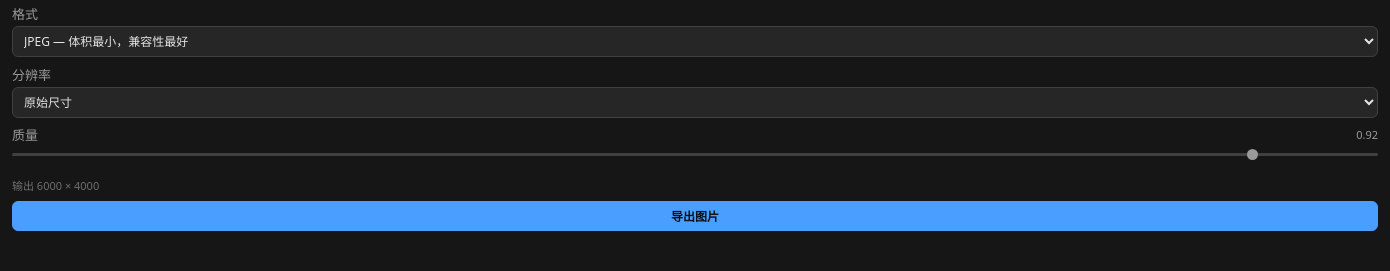
Test: ExportPanel › surfaces an export failure
Click the button "导出图片".
click(695, 216)  # box [12,201,1378,231]
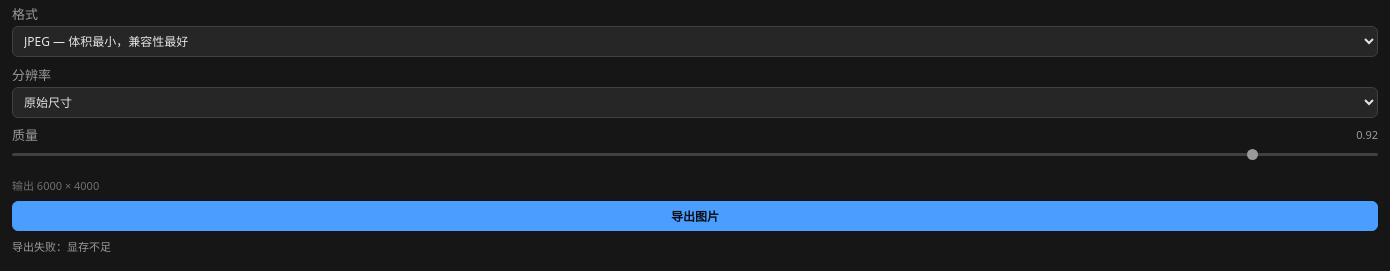
Now the text "导出失败：显存不足" is shown, box [12,239,111,254]
